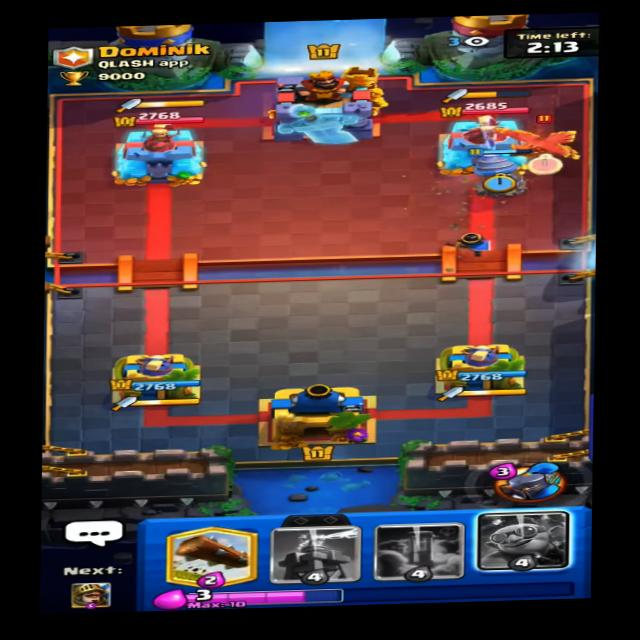phoenix: (489, 113, 602, 160)
